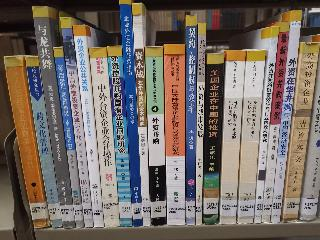book-spine: (31, 3, 77, 230), (4, 54, 51, 231), (267, 7, 302, 224), (59, 15, 94, 230), (23, 54, 64, 229), (282, 41, 319, 224), (72, 24, 105, 228), (259, 20, 291, 224), (52, 47, 86, 229), (87, 46, 119, 229), (118, 1, 143, 228), (252, 24, 280, 225), (216, 49, 247, 227), (237, 49, 265, 226), (106, 45, 133, 228), (162, 44, 187, 227), (144, 47, 168, 227), (132, 2, 151, 227), (202, 54, 224, 226), (184, 14, 197, 226), (196, 22, 206, 226)
